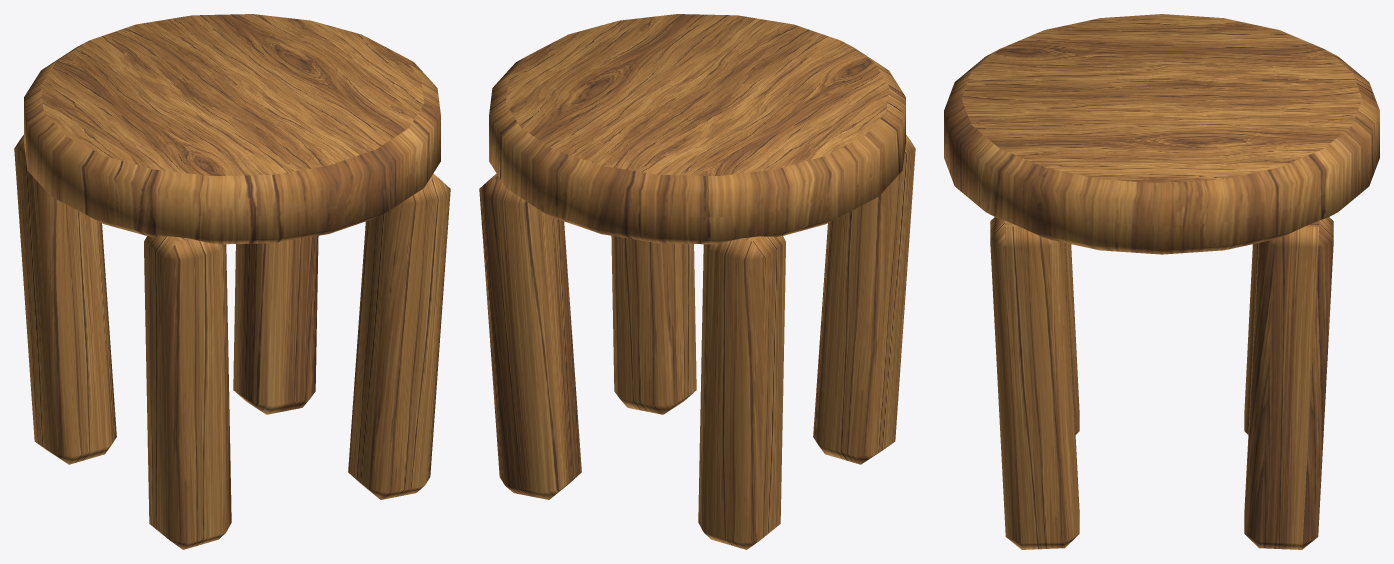
The model's file is 05_Taburete.obj.
3 views of the same model, side by side, from view 1: azimuth 30°, elevation 25°; view 2: azimuth 150°, elevation 25°; view 3: azimuth 270°, elevation 25° (orthographic). The views are drawn at different scales.
Visible parts, largest first — view 1: 05_Taburete_Wood; view 2: 05_Taburete_Wood; view 3: 05_Taburete_Wood.
Part boxes in pixels (<box>): 05_Taburete_Wood: <box>14,14,450,549</box>; 05_Taburete_Wood: <box>479,14,915,549</box>; 05_Taburete_Wood: <box>944,14,1379,549</box>.
Size of the model in its own units: 0.5 by 0.4963 by 0.5.
1 material, 1 textured.
